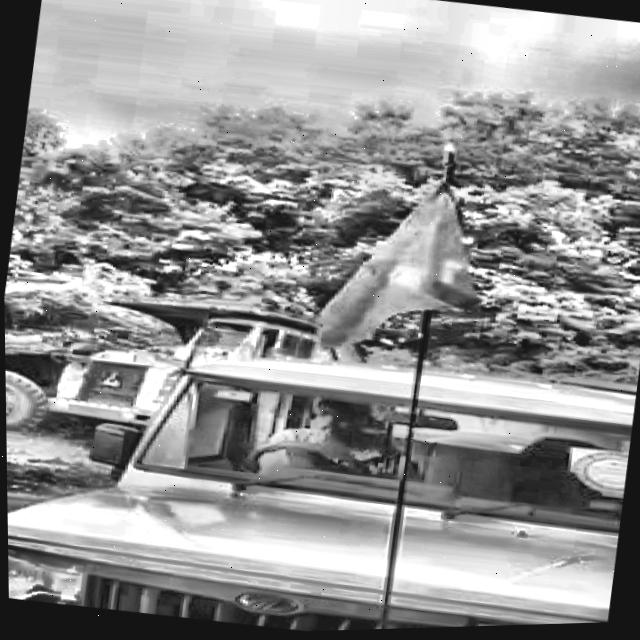light_vehicle: (4, 310, 637, 640)
